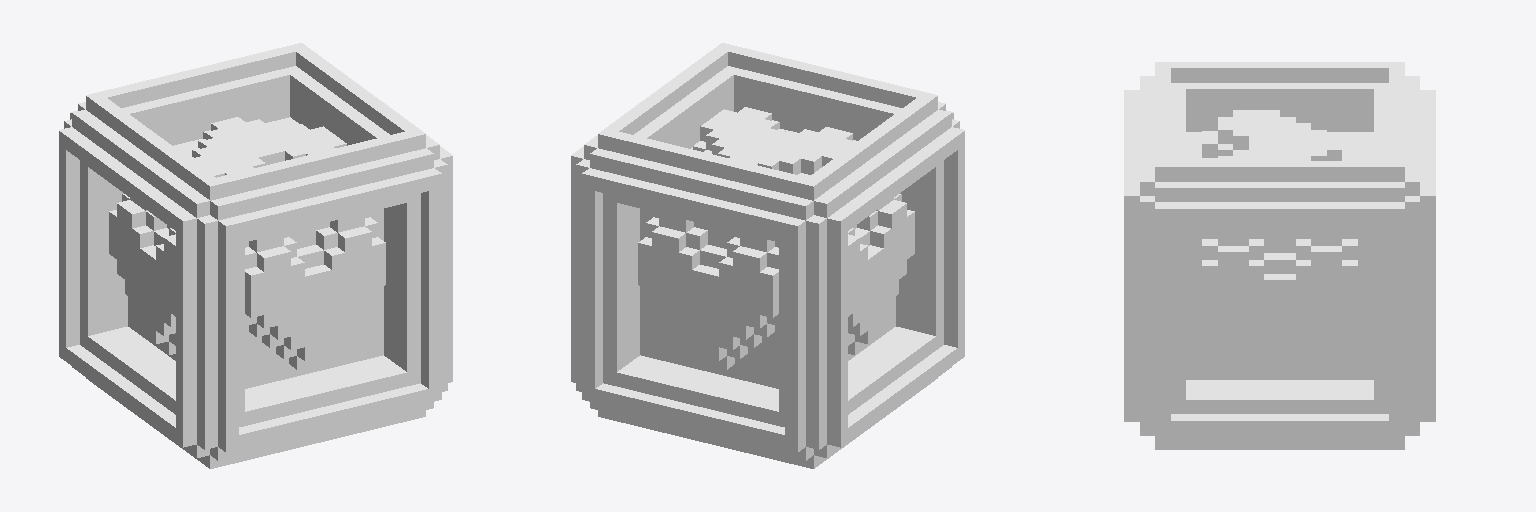
The model's file is healBox.obj.
The picture shows the model from 3 angles: view 1: azimuth 30°, elevation 25°; view 2: azimuth 150°, elevation 25°; view 3: azimuth 270°, elevation 25°; orthographic projection.
Visible parts, largest first — view 1: object 1; view 2: object 1; view 3: object 1.
Boxes of the visible parts, x1,y1,x2,y2 form: object 1: [59, 43, 452, 468]; object 1: [571, 43, 964, 468]; object 1: [1124, 62, 1435, 449].
Bounding box in the file's own units: 2 × 2 × 2.